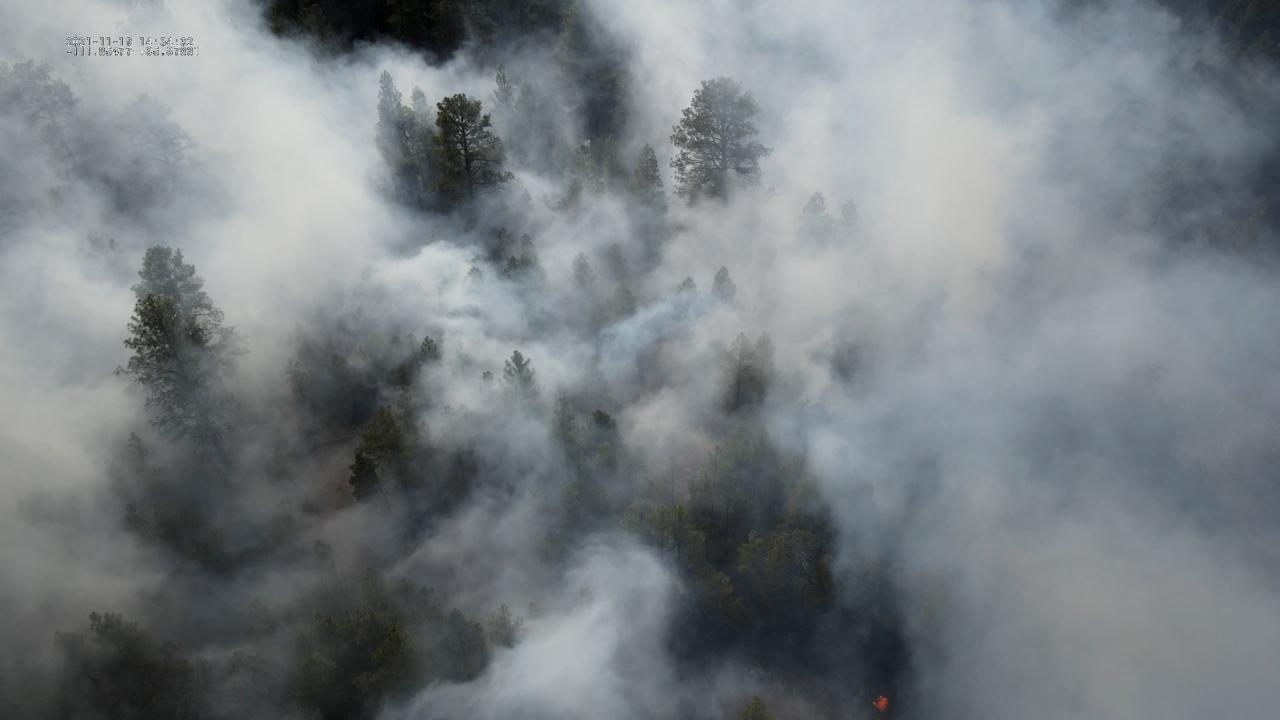fire: (872, 694, 889, 712)
smoke: (0, 0, 1280, 720)
